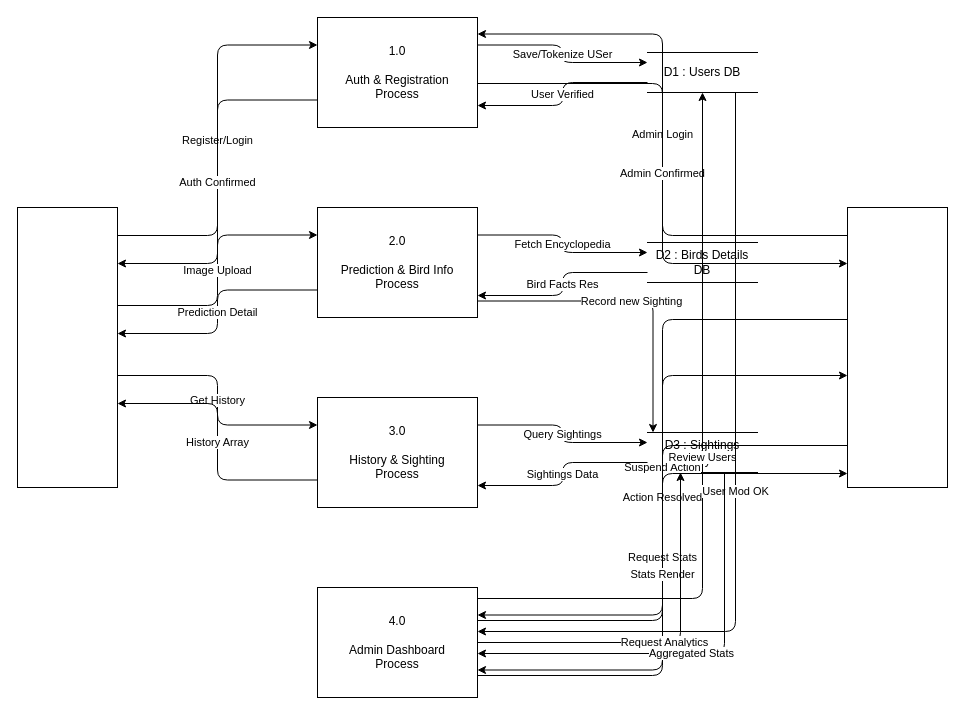
This 965x715 diagram has some shape labels left out. The shapes that lost their labels are listed below. From the top down, each one's centre as x and y in pixels, then its label:
point (67, 347): User
point (897, 347): Admin
